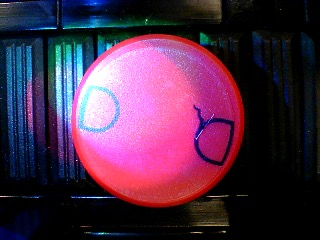CRACK: (71, 33, 245, 207)
